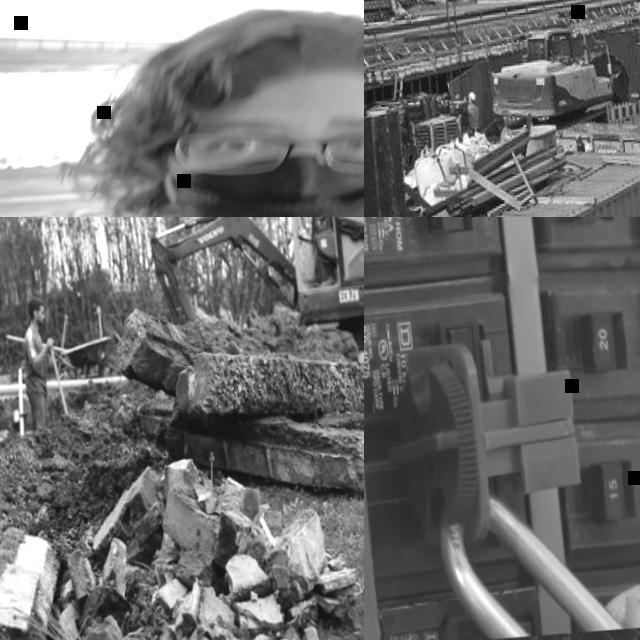helmet: (468, 92, 474, 100)
vest: (467, 104, 478, 128)
